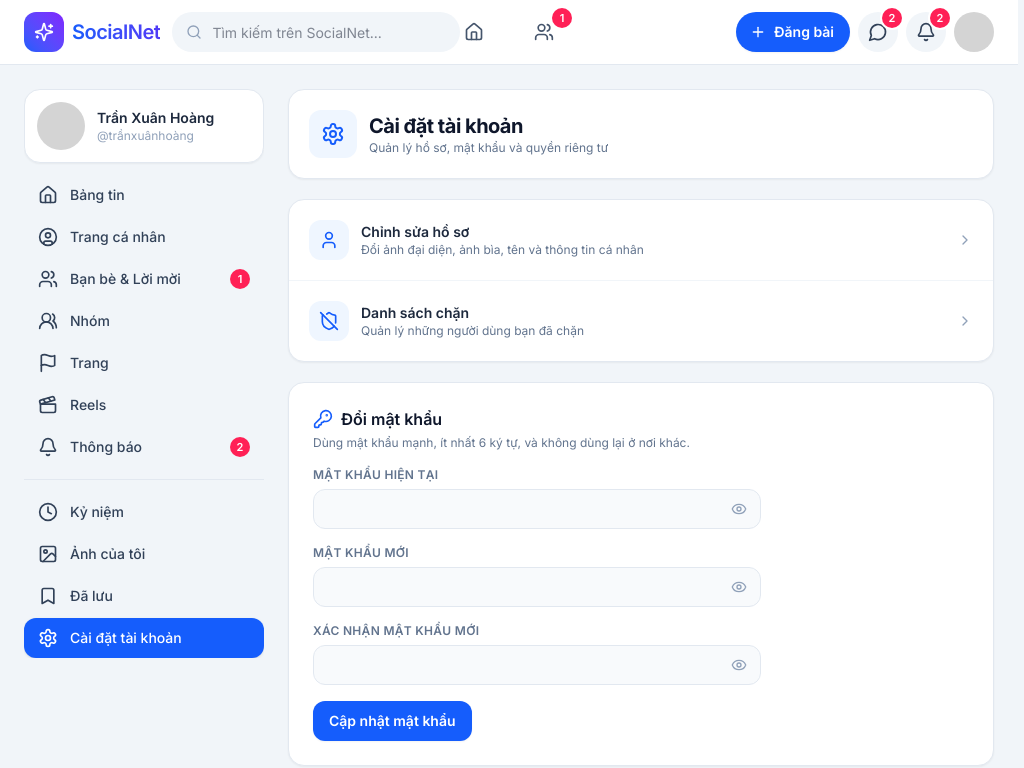
Lỗi KHÔNG phải ApiError → câu báo lỗi mặc định › đổi mật khẩu
This screenshot has width=1024, height=768.
expect the heading "Đổi mật khẩu" is shown: met, box [313,409,442,429]
Type "secret123" into the password field labelled "Mật khẩu hiện tại" at point(537, 509), box [313,489,761,529]
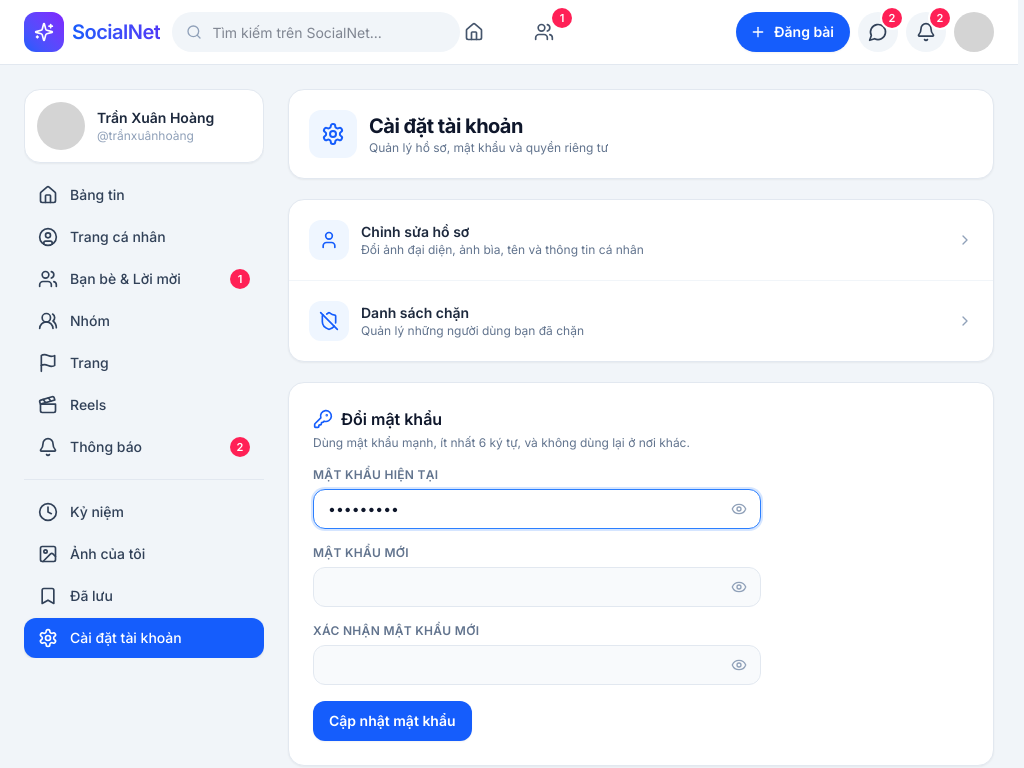
Type "matkhaumoi" into the password field labelled "Mật khẩu mới" at point(537, 587), box [313,567,761,607]
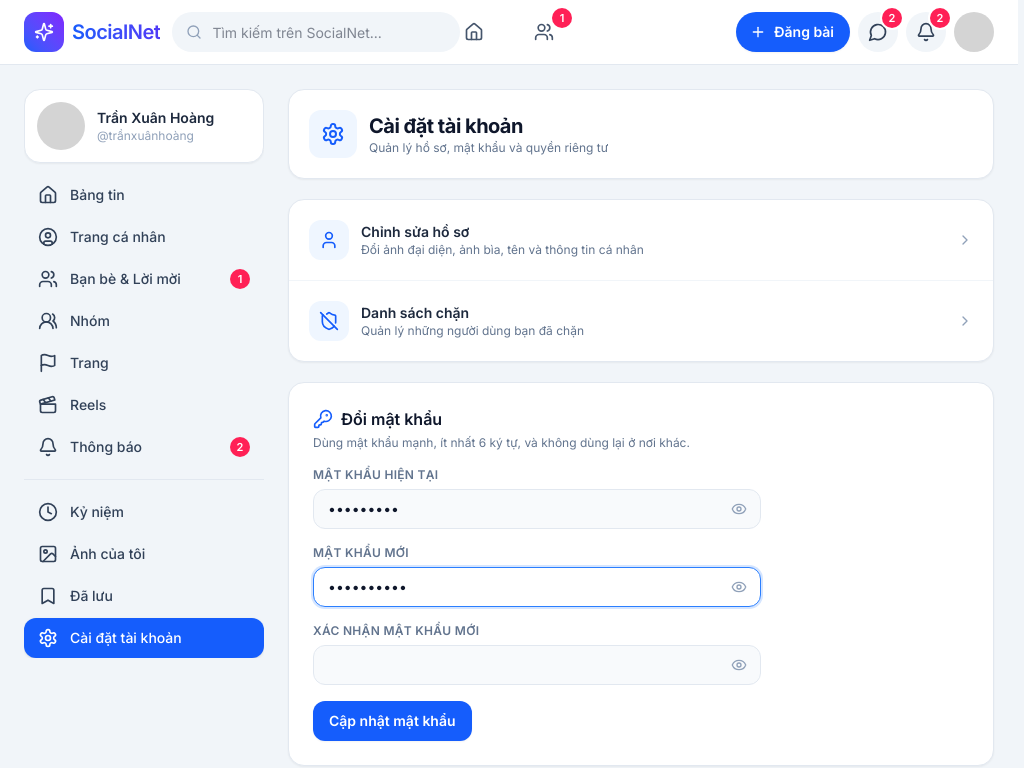
Type "matkhaumoi" into the password field labelled "Xác nhận mật khẩu mới" at point(537, 665), box [313,645,761,685]
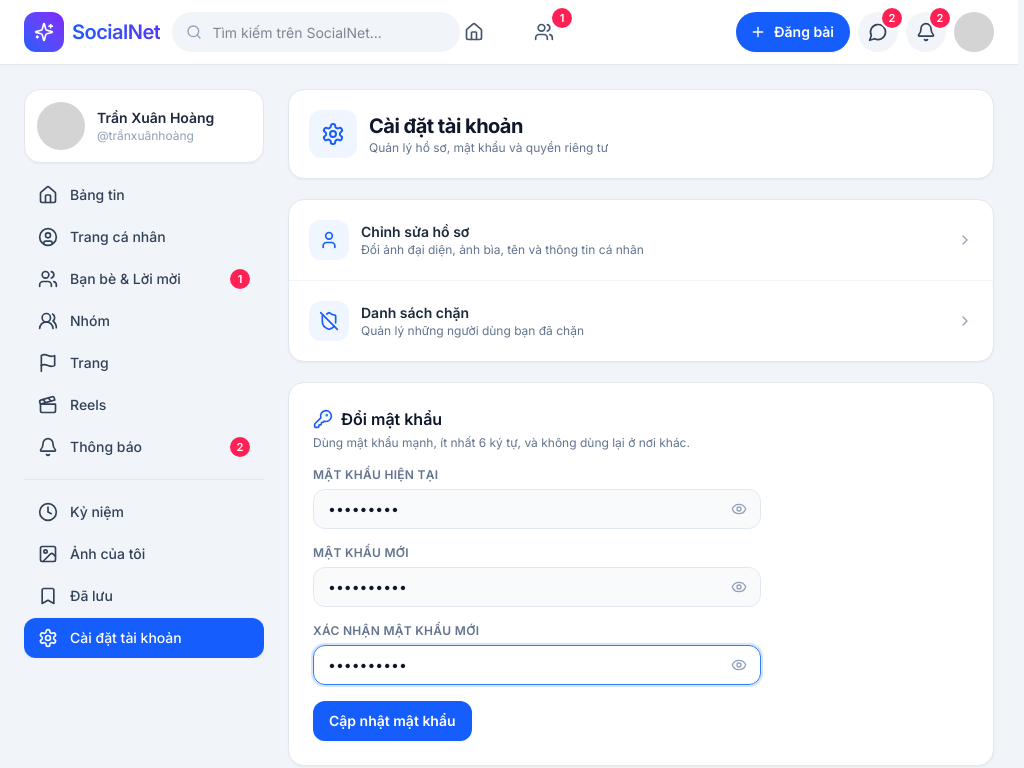
Click the button "Cập nhật mật khẩu" at point(392, 721), box [313,701,472,741]
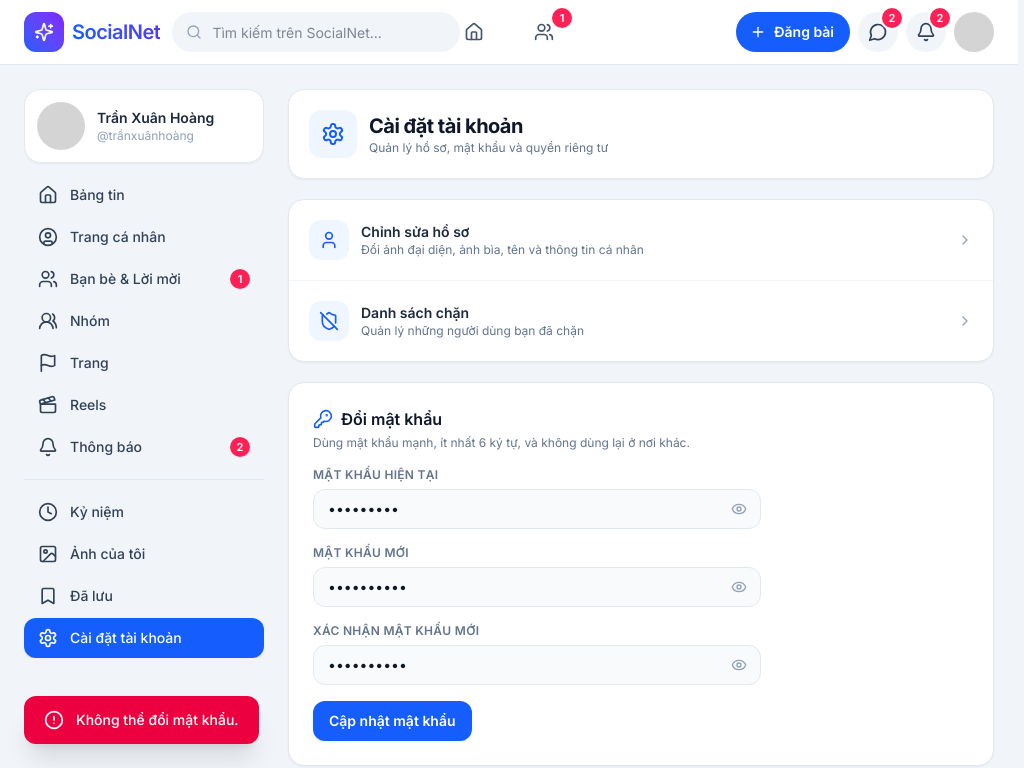
expect the message reads "Không thể đổi mật khẩu.": met, box [76,711,239,728]
